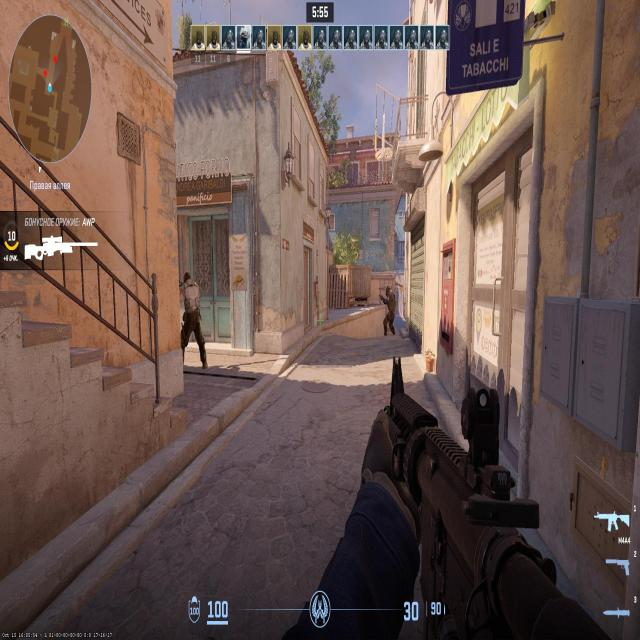CT: (387, 289, 395, 332)
CT_heat: (389, 288, 391, 295)
T: (180, 268, 204, 362)
T_heat: (185, 274, 192, 286)
